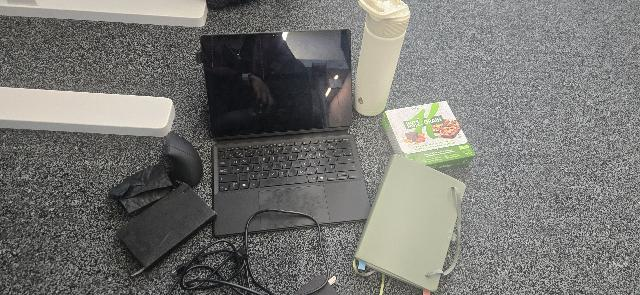Keyboard: (215, 137, 358, 192)
